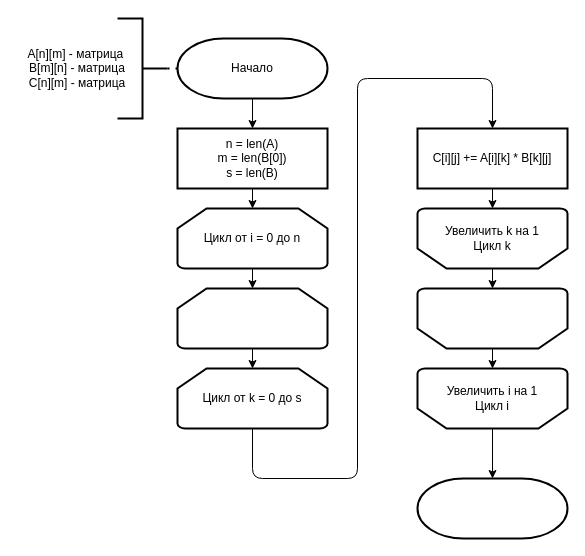
Some shapes in this 585 by 556 pixel diagram are drawn without their labels. Here are the shapes that lost their labels. From the top down, the box of each, then its label:
(176, 287, 328, 349): Цикл от j = 0 до m
(416, 287, 568, 349): Увеличить j на 1 Цикл j
(416, 477, 568, 539): Конец
